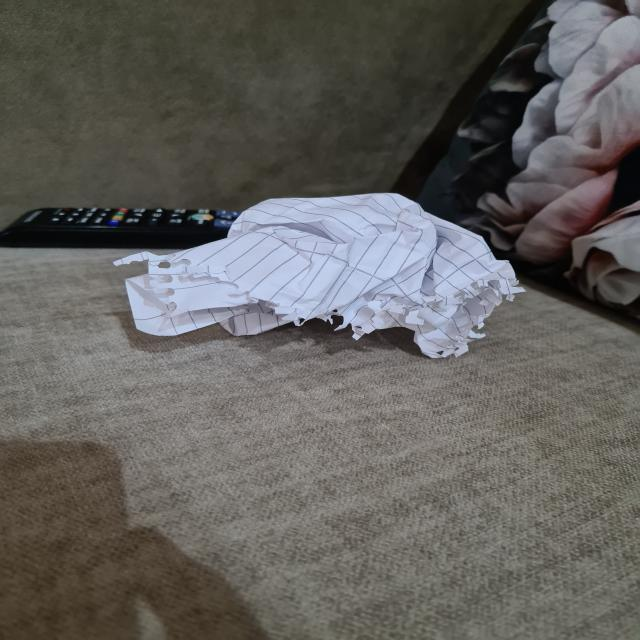Paper: (131, 194, 526, 359)
